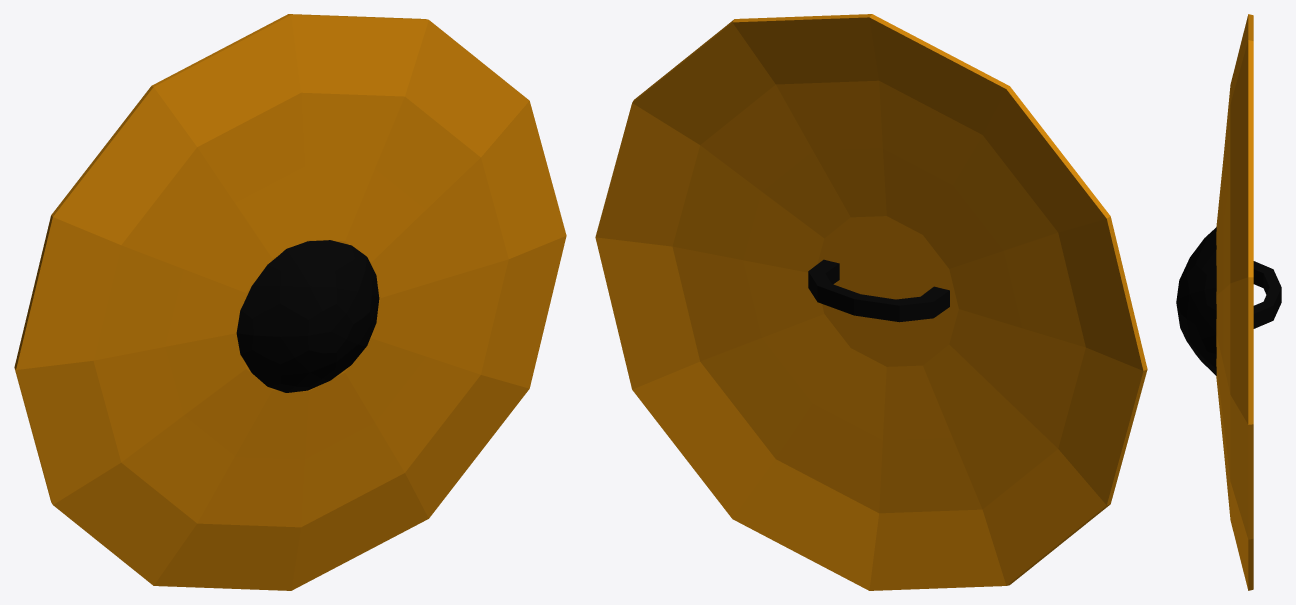
Rendered from Shield_01.fbx.
The picture shows the model from 3 angles, left to right: view 1: azimuth 30°, elevation 25°; view 2: azimuth 150°, elevation 25°; view 3: azimuth 270°, elevation 25°; orthographic projection. The views are drawn at different scales.
Parts seen in each view (by area): view 1: Shield_01; view 2: Shield_01; view 3: Shield_01.
Part boxes in pixels (box(x1,y1,x2,y2)): Shield_01: box(14, 14, 566, 590); Shield_01: box(595, 14, 1147, 590); Shield_01: box(1176, 14, 1281, 590).
Size of the model in its own units: 55.71 by 55.71 by 10.15.
